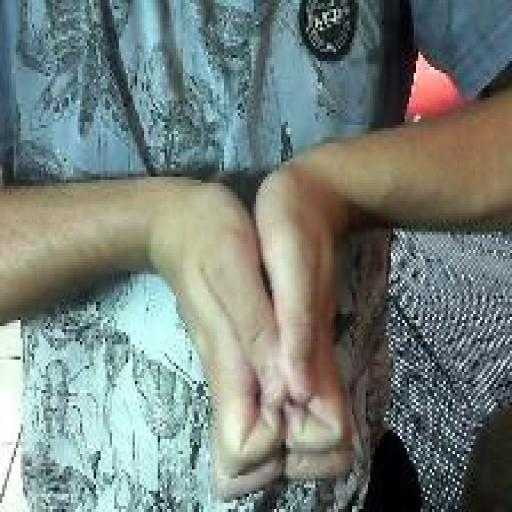I -boar-: (172, 164, 356, 503)
